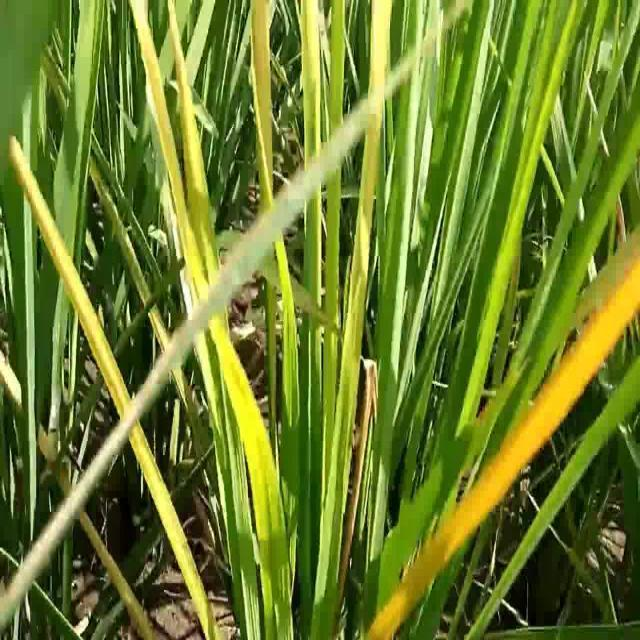Rice Tungro: (415, 257, 639, 596), (129, 3, 279, 495), (5, 130, 174, 534), (248, 2, 304, 316)
